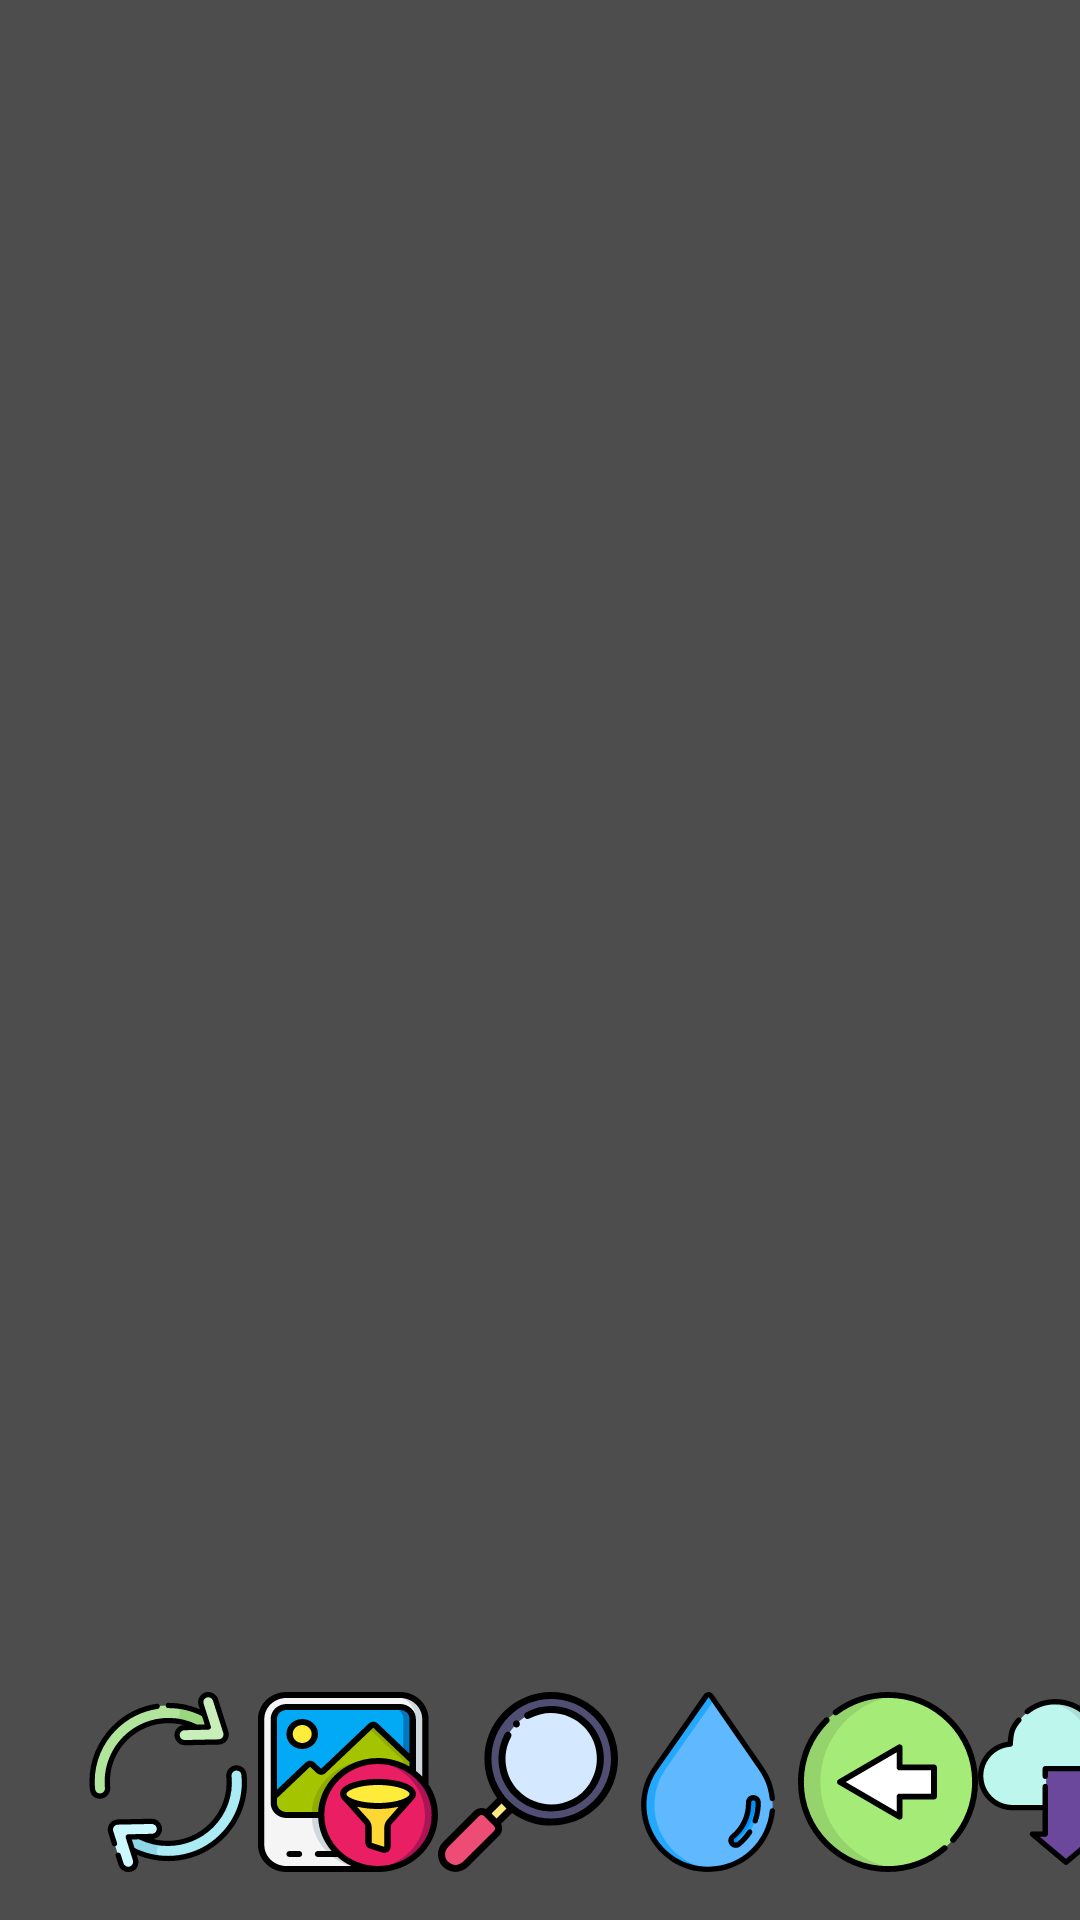

Locate icon controls on the screen. Image size 1080px×1920px, boxes as (x1=x1, y1=y1, x2=x2, y2=y2).
back: (x1=798, y1=1692, x2=978, y2=1872)
filters: (x1=258, y1=1692, x2=438, y2=1872)
refresh: (x1=89, y1=1692, x2=247, y2=1872)
search: (x1=438, y1=1692, x2=618, y2=1872)
tear: (x1=641, y1=1692, x2=775, y2=1872)
